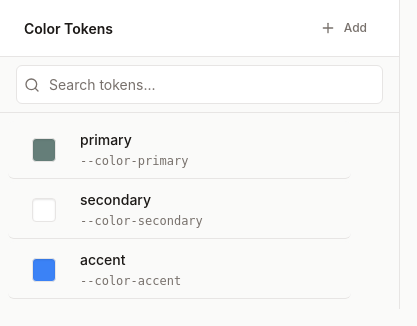
Test case: Gate 3: Token Editing › TokenList › filters tokens based on search query
Type "primary" into the field with placeholder "Search tokens...".
click(200, 84); type("primary")  # box x1=16 y1=65 x2=383 y2=104
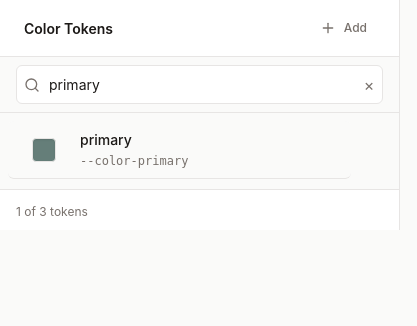
Expected: the text "primary" is shown, x1=80 y1=131 x2=132 y2=148
Now the button "secondary" is gone
Now the button "accent" is gone
